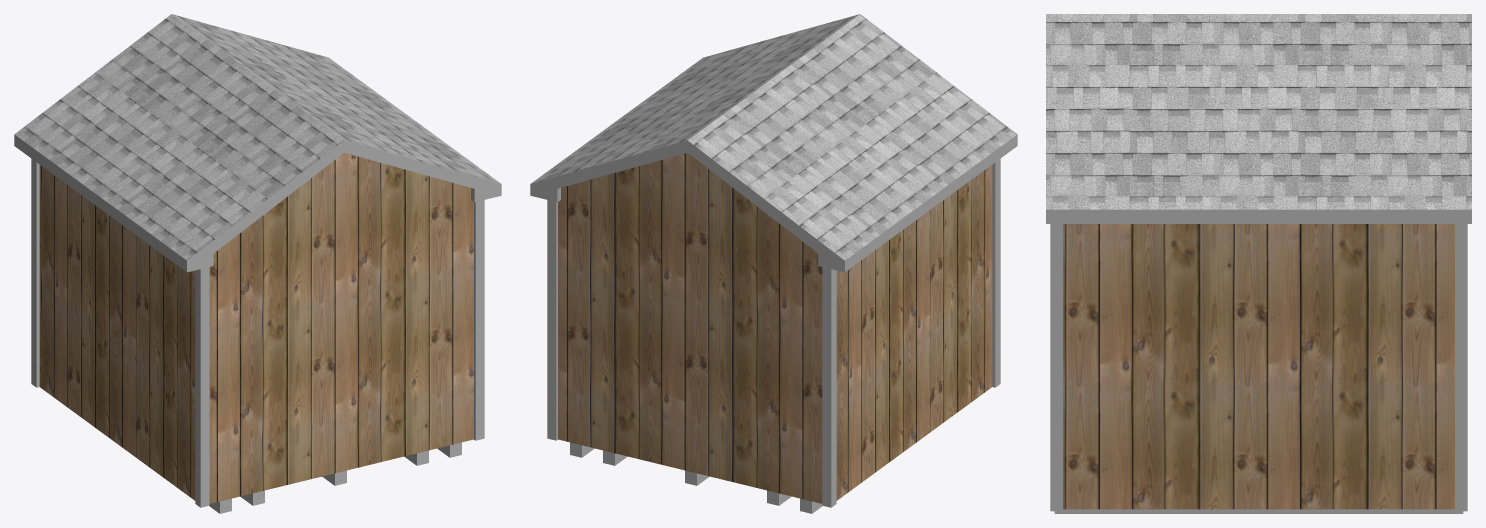
The model's file is A-frame_8x8.obj.
3 views of the same model, side by side, from view 1: azimuth 30°, elevation 25°; view 2: azimuth 150°, elevation 25°; view 3: azimuth 270°, elevation 25° (orthographic). The views are drawn at different scales.
Visible parts, largest first — view 1: Shed, Roof, Trim, Sides, Floor; view 2: Shed, Roof, Trim, Sides, Floor; view 3: Shed, Roof, Trim, Sides, Floor.
Part boxes in pixels (x1=…): Shed: x1=39, y1=153, x2=473, y2=503; Roof: x1=14, y1=14, x2=500, y2=260; Trim: x1=31, y1=158, x2=484, y2=507; Sides: x1=14, y1=134, x2=501, y2=272; Floor: x1=209, y1=442, x2=461, y2=513; Shed: x1=558, y1=153, x2=992, y2=503; Roof: x1=531, y1=14, x2=1017, y2=260; Trim: x1=547, y1=158, x2=1000, y2=507; Sides: x1=530, y1=134, x2=1017, y2=272; Floor: x1=570, y1=442, x2=822, y2=513; Shed: x1=1063, y1=224, x2=1454, y2=509; Roof: x1=1046, y1=14, x2=1471, y2=209; Trim: x1=1050, y1=224, x2=1467, y2=511; Sides: x1=1046, y1=209, x2=1471, y2=223; Floor: x1=1054, y1=509, x2=1463, y2=513.
Size of the model in its own units: 2.67 by 2.81 by 2.54.
